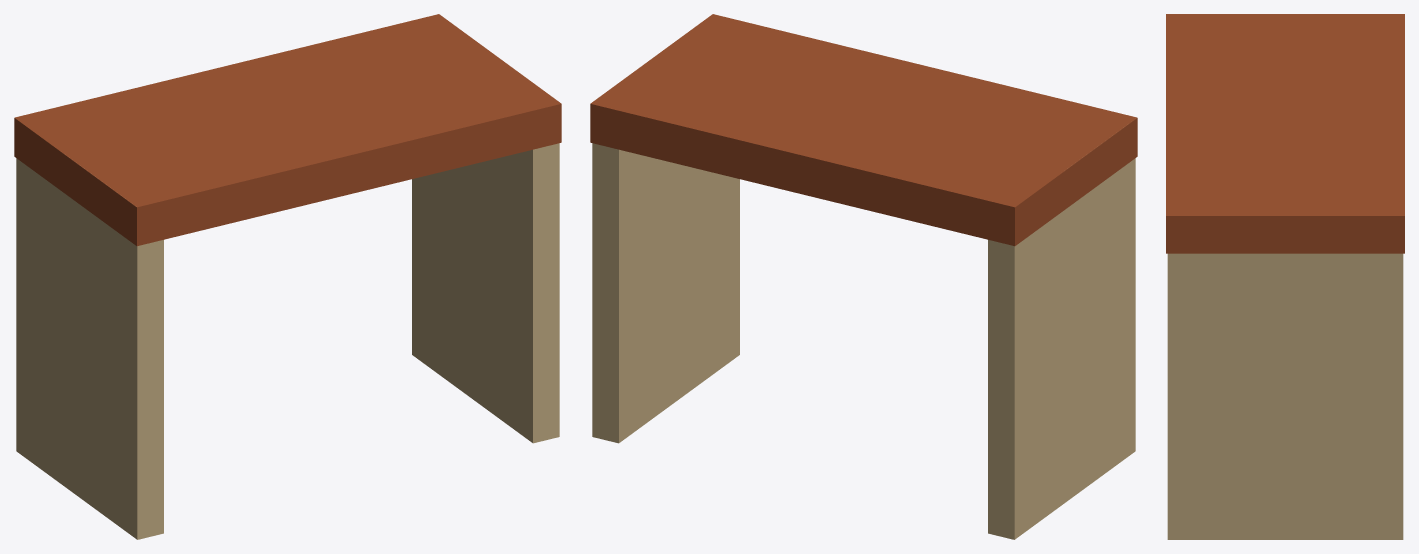
File: desk2_wood.glb
3 views of the same model, side by side, from view 1: azimuth 30°, elevation 25°; view 2: azimuth 150°, elevation 25°; view 3: azimuth 270°, elevation 25° (orthographic). The views are drawn at different scales.
Parts seen in each view (by area): view 1: Box002; view 2: Box002; view 3: Box002.
Part boxes in pixels (x1,y1,x2,y2): Box002: (14, 14, 561, 539); Box002: (590, 14, 1137, 539); Box002: (1166, 14, 1404, 539).
Bounding box in the file's own units: 0.16 × 0.12 × 0.08.
Materials: 1 (1 with a texture image).
